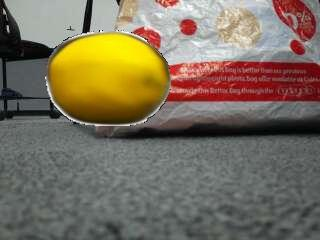lemon: (49, 33, 169, 124)
